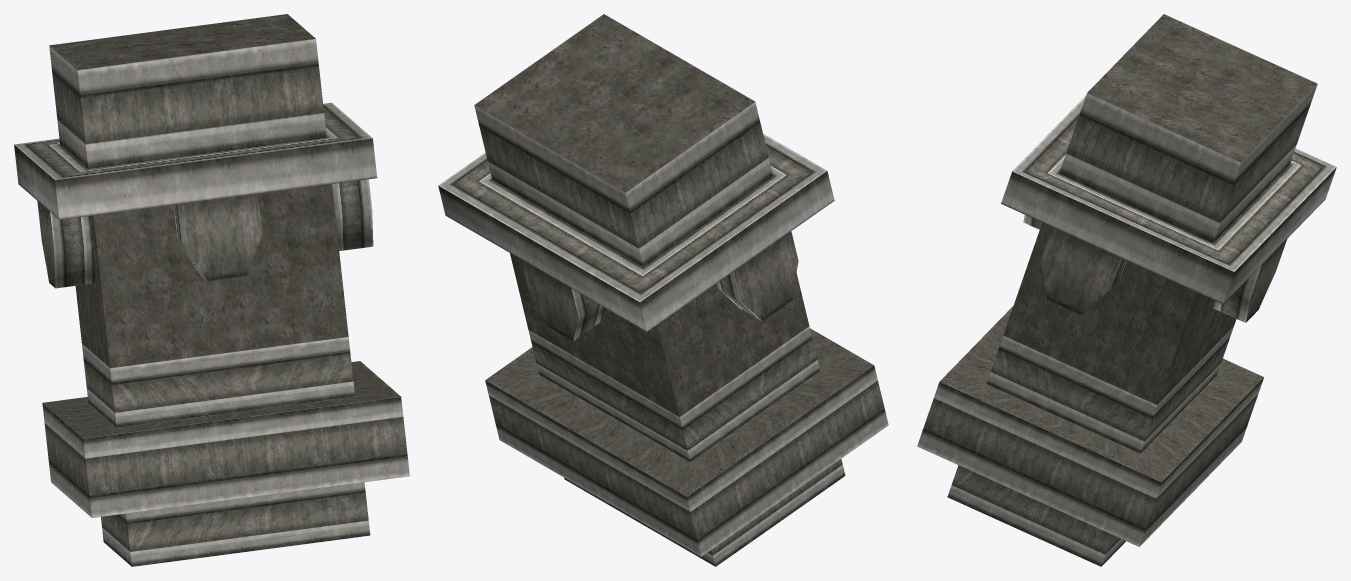
Rendered from DWARF_PALACE_MAINHALL_BALK_DEBREE03.fbx.
3 renders of one model, left to right at view 1: azimuth 30°, elevation 25°; view 2: azimuth 150°, elevation 25°; view 3: azimuth 270°, elevation 25°, orthographic. The views are drawn at different scales.
Visible parts, largest first — view 1: DWARF_PALACE_MAINHALL_BALK_DEBREE03; view 2: DWARF_PALACE_MAINHALL_BALK_DEBREE03; view 3: DWARF_PALACE_MAINHALL_BALK_DEBREE03.
Boxes of the visible parts, left/top/right/bottom form: DWARF_PALACE_MAINHALL_BALK_DEBREE03: left=14, top=14, right=409, bottom=566; DWARF_PALACE_MAINHALL_BALK_DEBREE03: left=438, top=14, right=888, bottom=566; DWARF_PALACE_MAINHALL_BALK_DEBREE03: left=917, top=14, right=1336, bottom=566.
Bounding box in the file's own units: 15773 × 21245 × 17170.
Materials: 2 (2 with a texture image).
